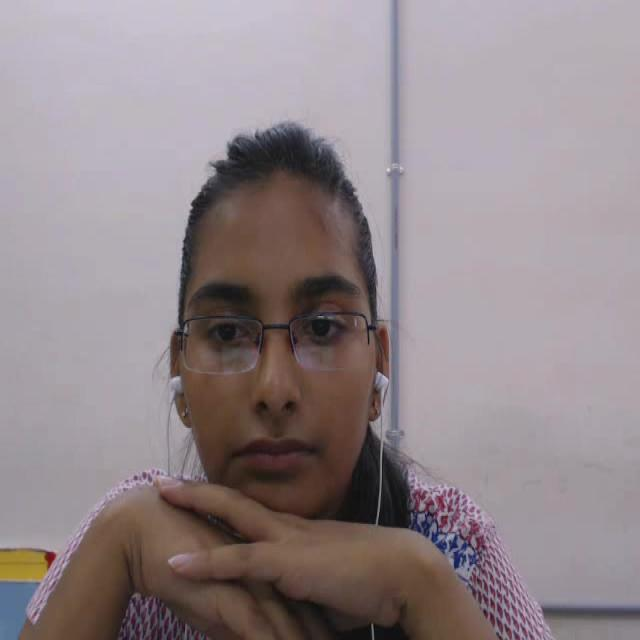Bored: (144, 122, 416, 556)
